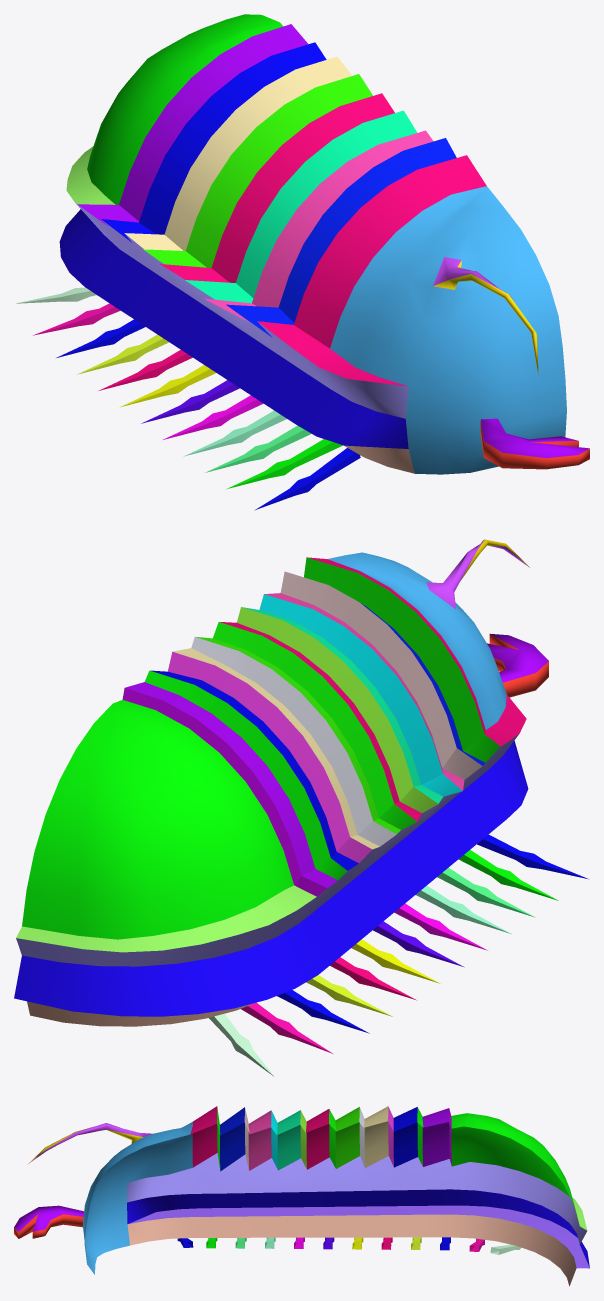
Rendered from bug.glb.
3 renders of one model, top to bottom at view 1: azimuth 30°, elevation 25°; view 2: azimuth 150°, elevation 25°; view 3: azimuth 270°, elevation 25°, orthographic. The views are drawn at different scales.
Visible parts, largest first — view 1: Sphere; view 2: Sphere; view 3: Sphere.
Boxes of the visible parts, box(x1,y1,x2,y2) form: Sphere: box(15, 14, 589, 510); Sphere: box(14, 539, 588, 1076); Sphere: box(14, 1106, 589, 1286).
Bounding box in the file's own units: 1.45 × 1.58 × 4.5.
1 material, 1 textured.
